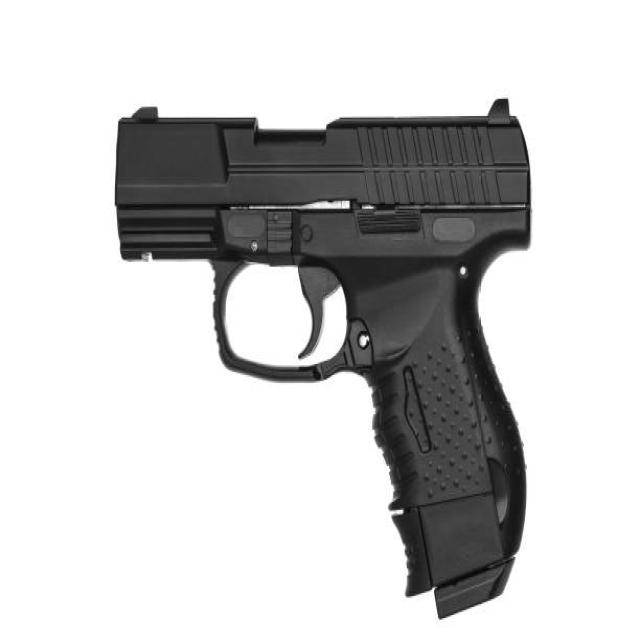pistol: (111, 86, 544, 618)
